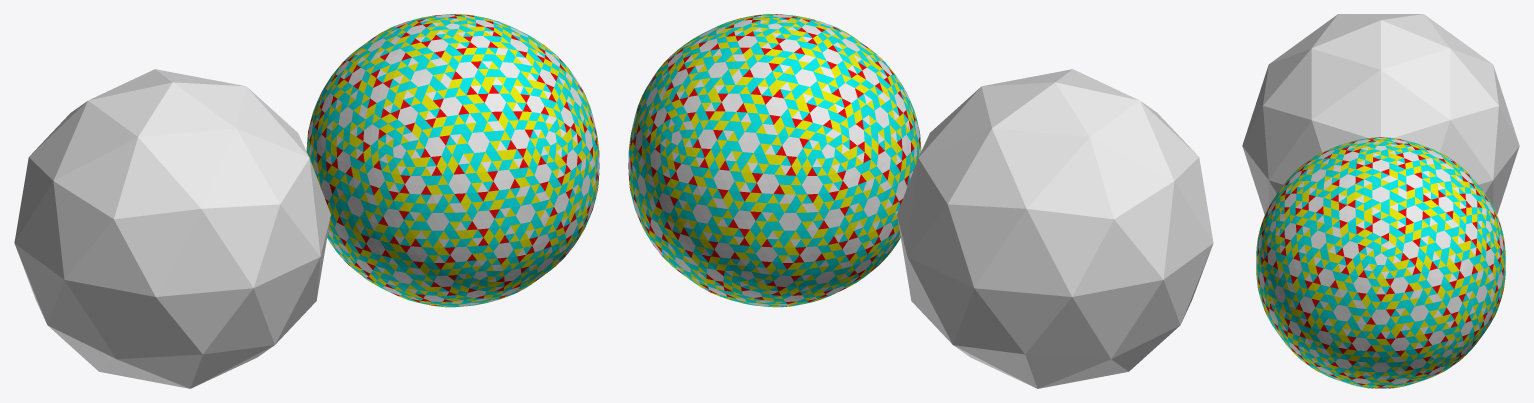
The model's file is LOOP_subdiv.fbx.
The picture shows the model from 3 angles, left to right: view 1: azimuth 30°, elevation 25°; view 2: azimuth 150°, elevation 25°; view 3: azimuth 270°, elevation 25°; orthographic projection. The views are drawn at different scales.
Visible parts, largest first — view 1: Icosphere.001, Icosphere; view 2: Icosphere.001, Icosphere; view 3: Icosphere, Icosphere.001.
Boxes of the visible parts, <box> form: Icosphere.001: <box>14,69,330,388</box>; Icosphere: <box>306,14,599,307</box>; Icosphere.001: <box>897,69,1213,388</box>; Icosphere: <box>628,14,921,307</box>; Icosphere: <box>1256,137,1505,388</box>; Icosphere.001: <box>1242,14,1519,214</box>.
Bounding box in the file's own units: 386 × 200 × 200.
